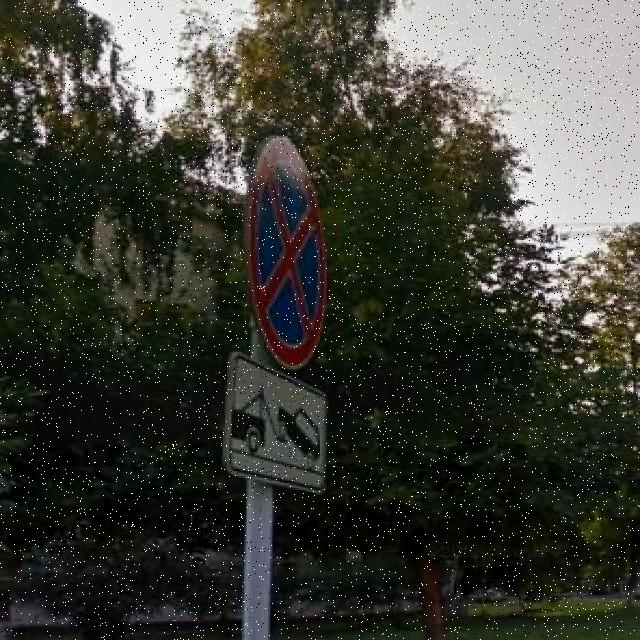Zakaz zatrzymywania sie: (238, 131, 336, 373)
